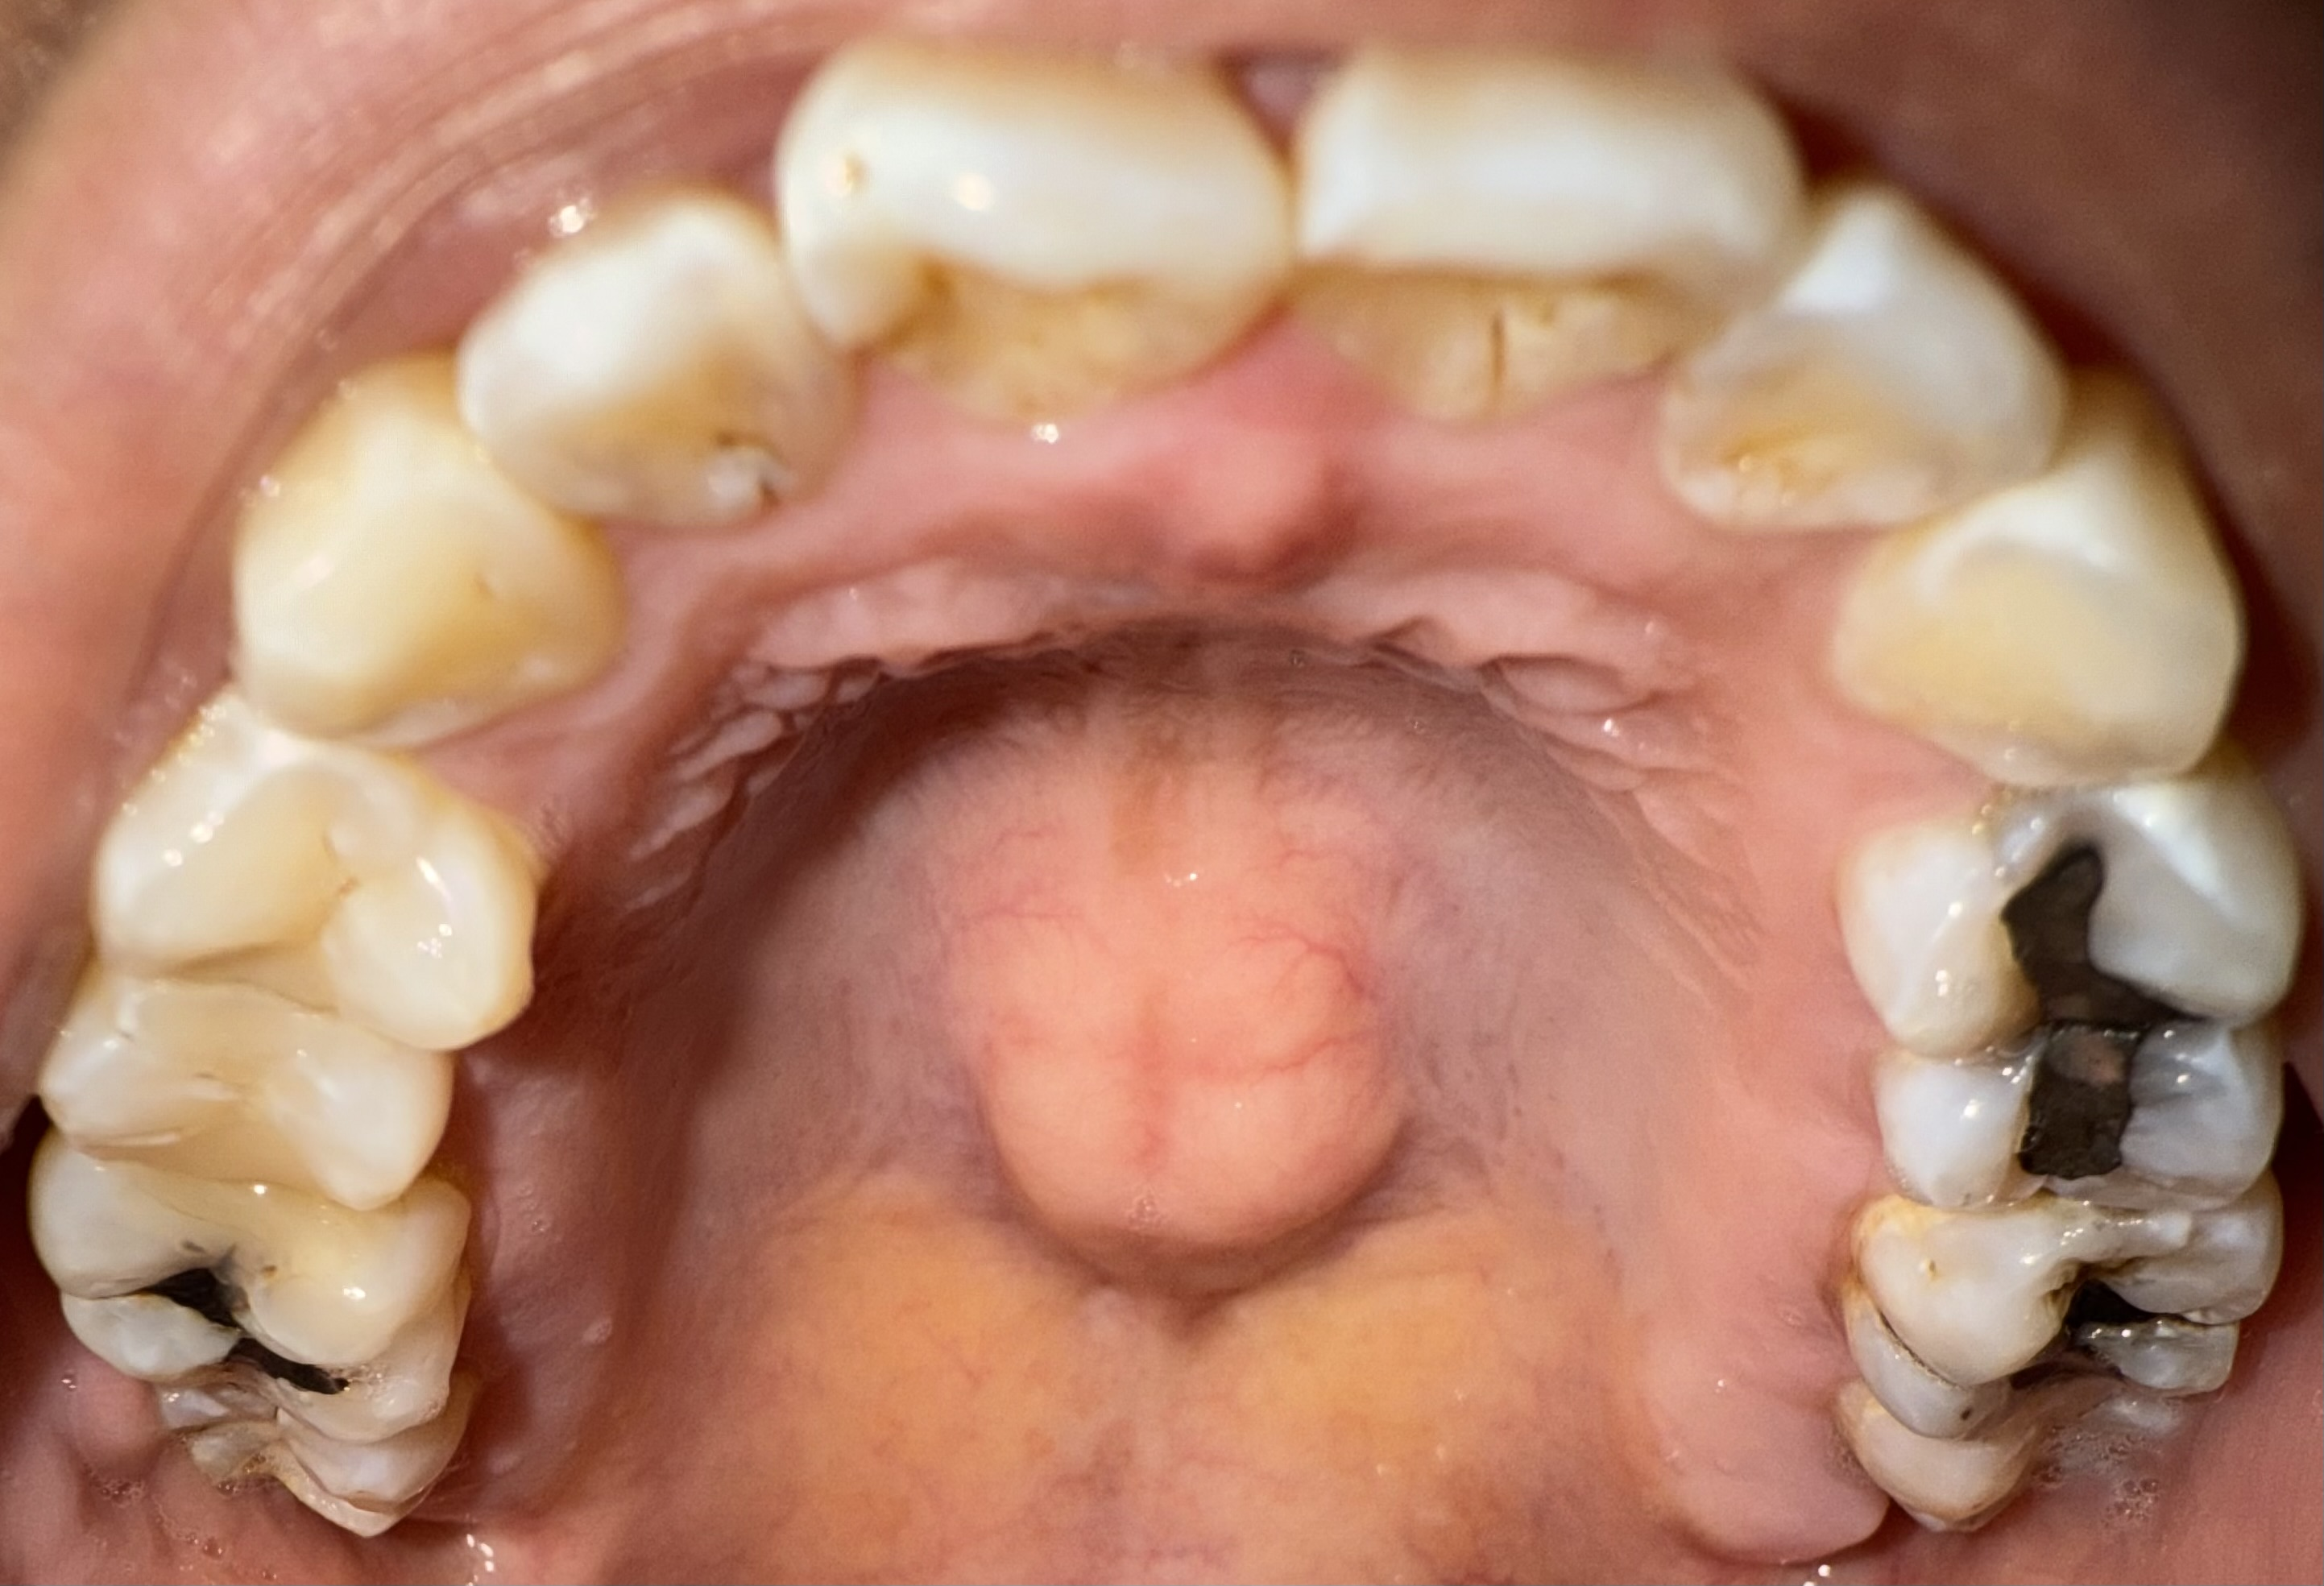teeth: (1296, 37, 1805, 419), (795, 37, 1291, 422), (1840, 403, 2213, 789), (1674, 205, 2066, 523), (115, 761, 496, 1038), (472, 233, 807, 523), (1911, 804, 2273, 1056), (253, 482, 606, 724), (72, 993, 417, 1208), (39, 1169, 397, 1356), (1939, 1037, 2260, 1203), (1967, 1222, 2267, 1365)
